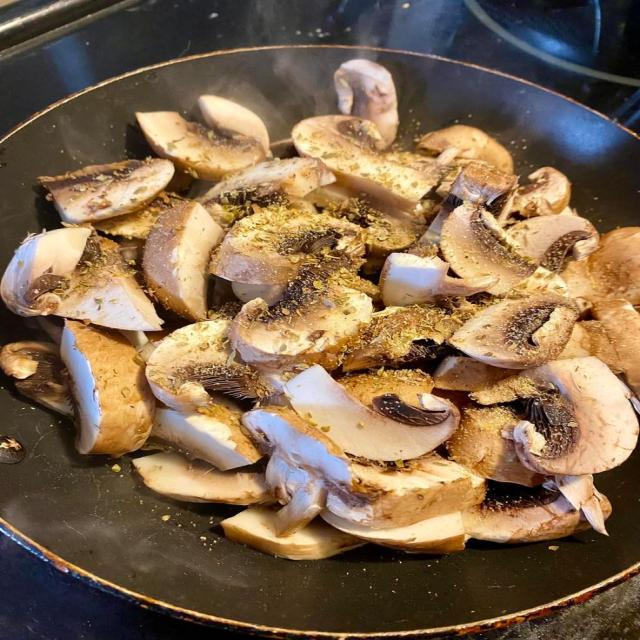champignon mushrooms: (243, 408, 484, 535), (474, 357, 638, 474), (285, 366, 459, 461), (0, 228, 161, 330), (230, 267, 372, 370), (242, 407, 353, 536), (293, 116, 434, 210), (60, 321, 155, 456), (327, 454, 485, 528), (212, 209, 364, 285), (147, 318, 270, 411), (52, 237, 162, 331), (448, 295, 578, 369), (143, 202, 224, 320), (136, 112, 265, 180), (440, 203, 536, 294), (39, 159, 173, 223), (150, 396, 261, 471), (418, 162, 517, 245), (343, 306, 467, 371), (0, 228, 91, 316), (446, 407, 544, 486), (221, 507, 366, 560), (463, 483, 589, 543), (324, 198, 423, 272), (133, 453, 273, 505), (199, 158, 335, 206), (321, 510, 466, 553), (380, 254, 499, 305), (562, 227, 639, 305), (334, 59, 398, 148), (0, 342, 73, 416), (508, 216, 598, 272), (418, 125, 513, 173), (92, 192, 185, 240), (593, 299, 639, 394), (199, 95, 269, 153), (587, 228, 639, 305), (549, 475, 608, 535), (340, 369, 433, 405), (558, 321, 622, 373), (510, 167, 571, 217), (434, 356, 512, 391), (507, 267, 568, 296)
